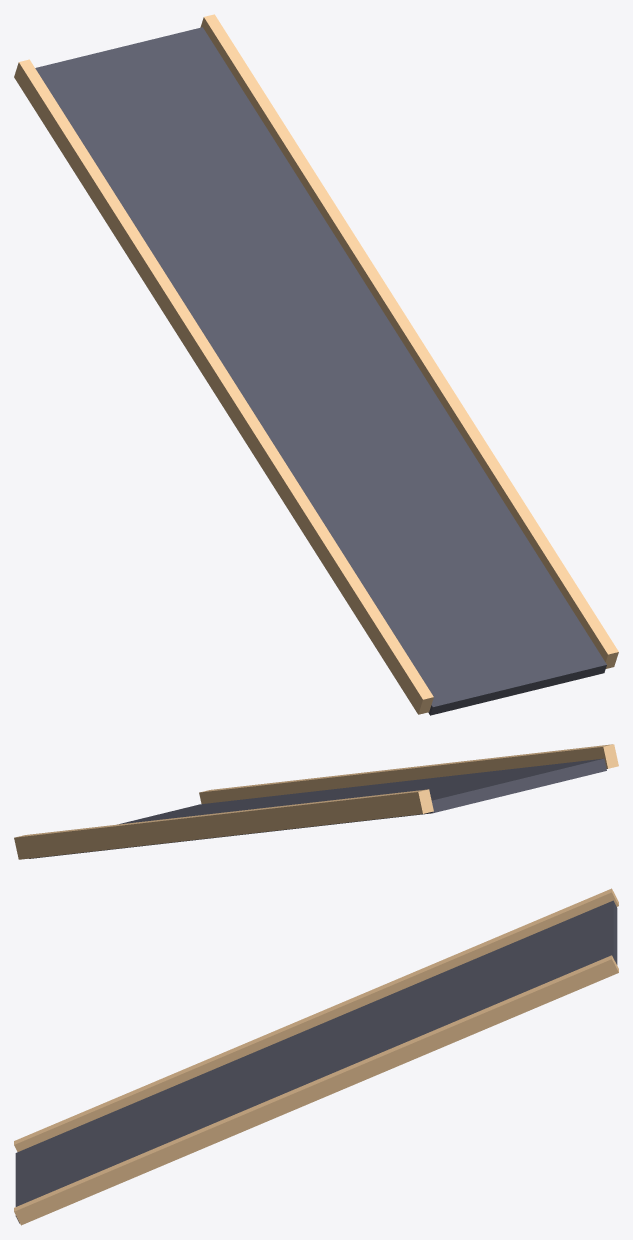
File: ramp3.glb
The picture shows the model from 3 angles, top to bottom: view 1: azimuth 30°, elevation 25°; view 2: azimuth 210°, elevation 25°; view 3: azimuth 270°, elevation 25°; orthographic projection. The views are drawn at different scales.
Visible parts, largest first — view 1: ramp, ramp_curb_l, ramp_curb_r; view 2: ramp_curb_r, ramp, ramp_curb_l; view 3: ramp, ramp_curb_r, ramp_curb_l.
Boxes of the visible parts, x1=… form: ramp: x1=35, y1=27, x2=606, y2=715; ramp_curb_l: x1=14, y1=59, x2=433, y2=714; ramp_curb_r: x1=200, y1=14, x2=618, y2=668; ramp_curb_r: x1=14, y1=789, x2=433, y2=859; ramp: x1=29, y1=758, x2=606, y2=858; ramp_curb_l: x1=199, y1=744, x2=618, y2=803; ramp: x1=15, y1=900, x2=617, y2=1223; ramp_curb_r: x1=14, y1=955, x2=618, y2=1225; ramp_curb_l: x1=14, y1=888, x2=618, y2=1151.
Size of the model in its own units: 1.8 by 3.19 by 6.51.
